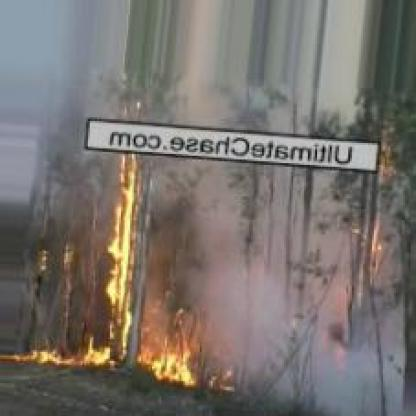fire: (105, 148, 143, 370), (144, 323, 208, 393), (1, 337, 122, 370)
smoke: (208, 265, 392, 402)
